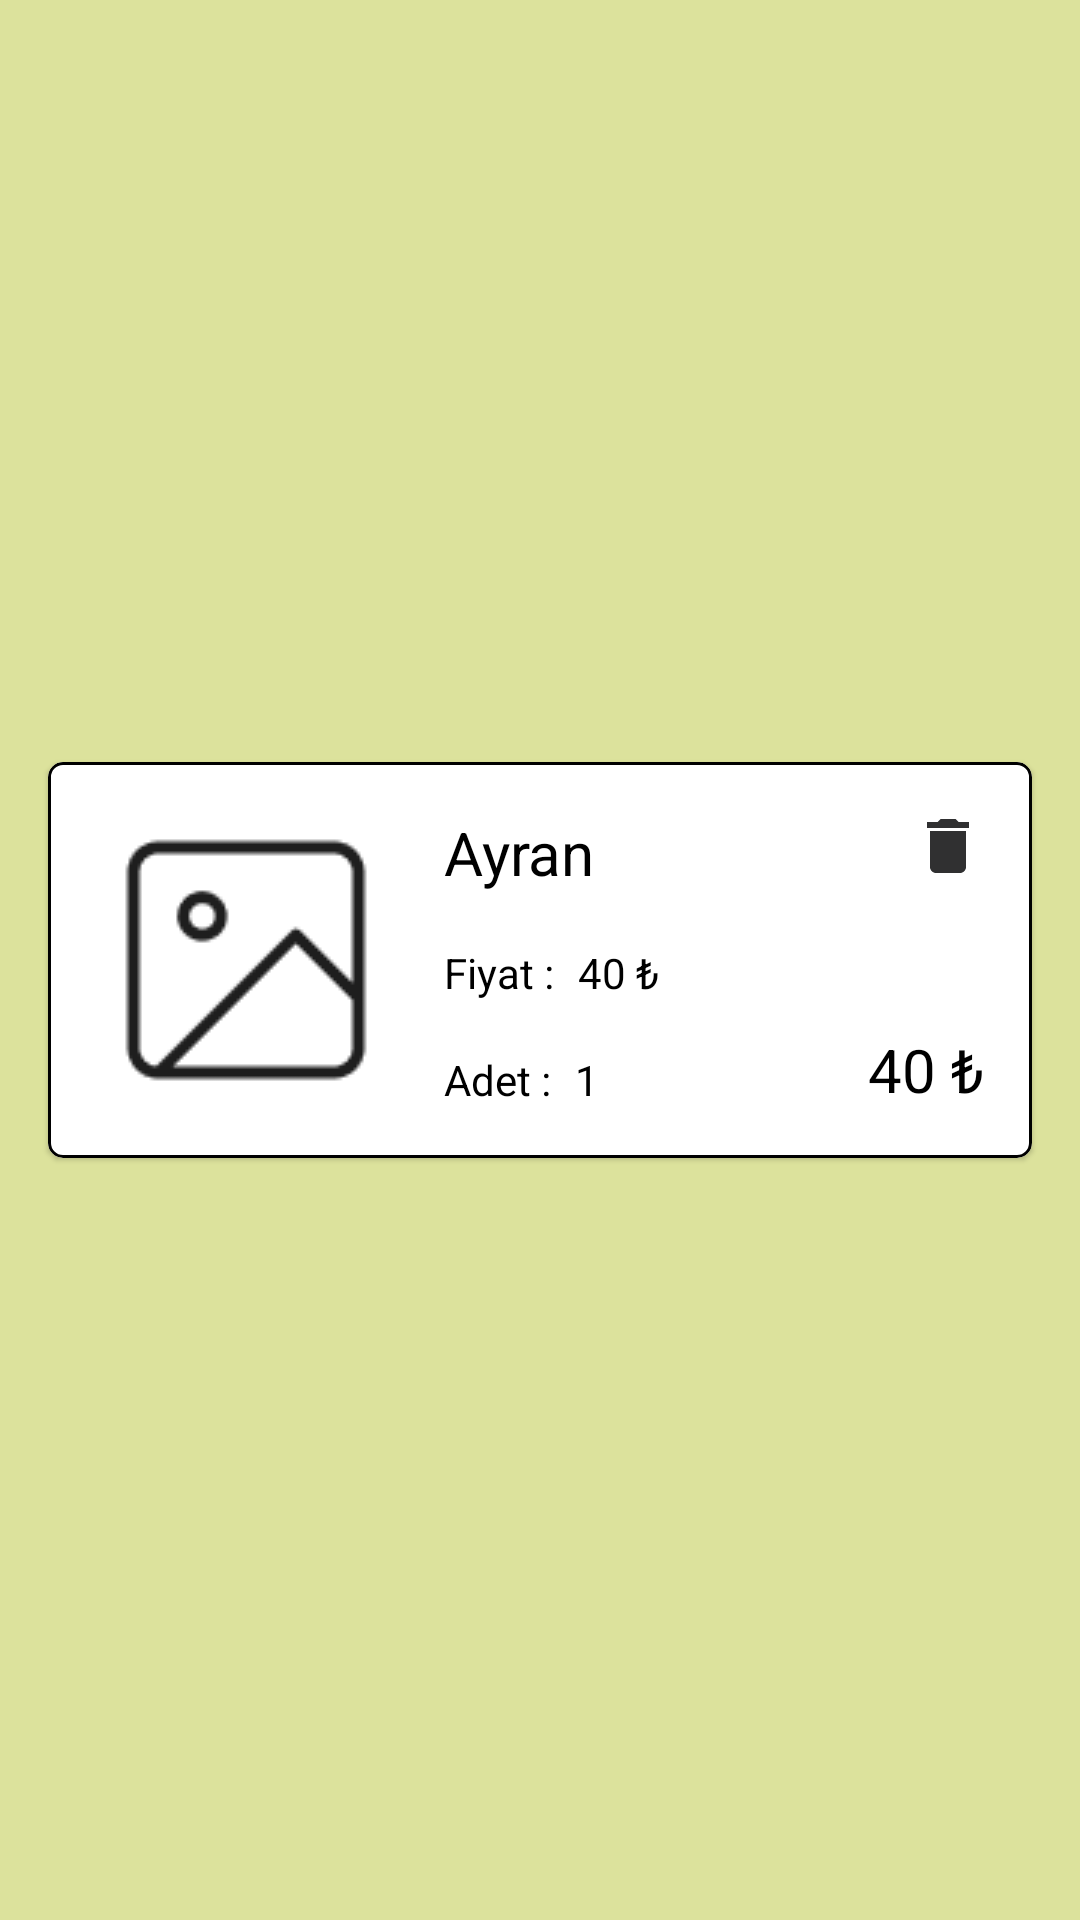

Where icons sit on this 1080px x 1920px app screen, as (x1, y1, x2, y2):
delete: (927, 819, 969, 873)
